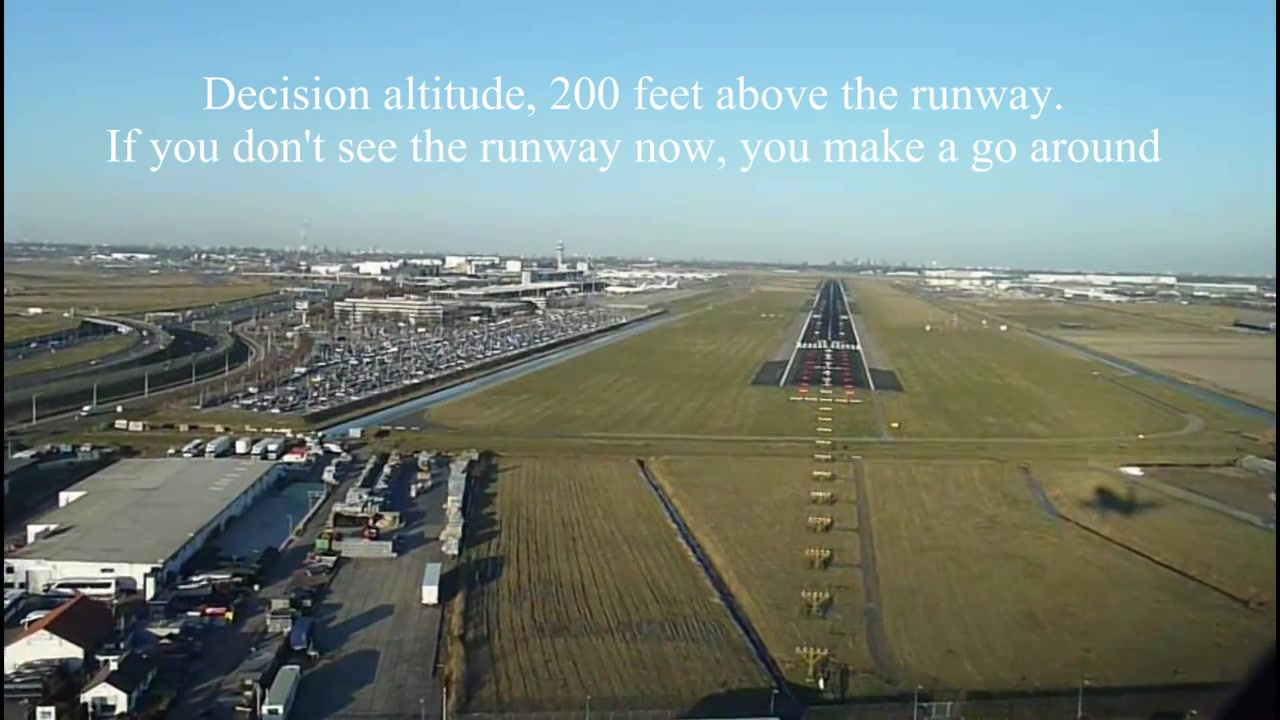entrance: (793, 337, 864, 351)
runway: (773, 275, 872, 392)
